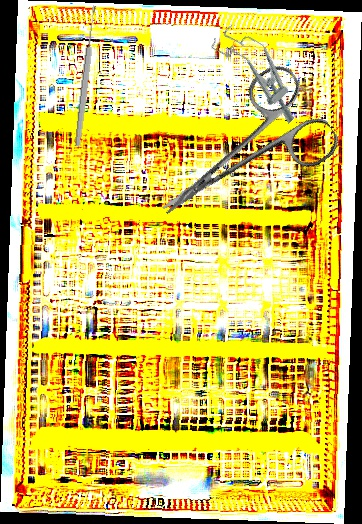Iris Scissors: (131, 57, 345, 253)
Speculum: (207, 16, 314, 130)
Surgical Spoon: (73, 5, 99, 147)
